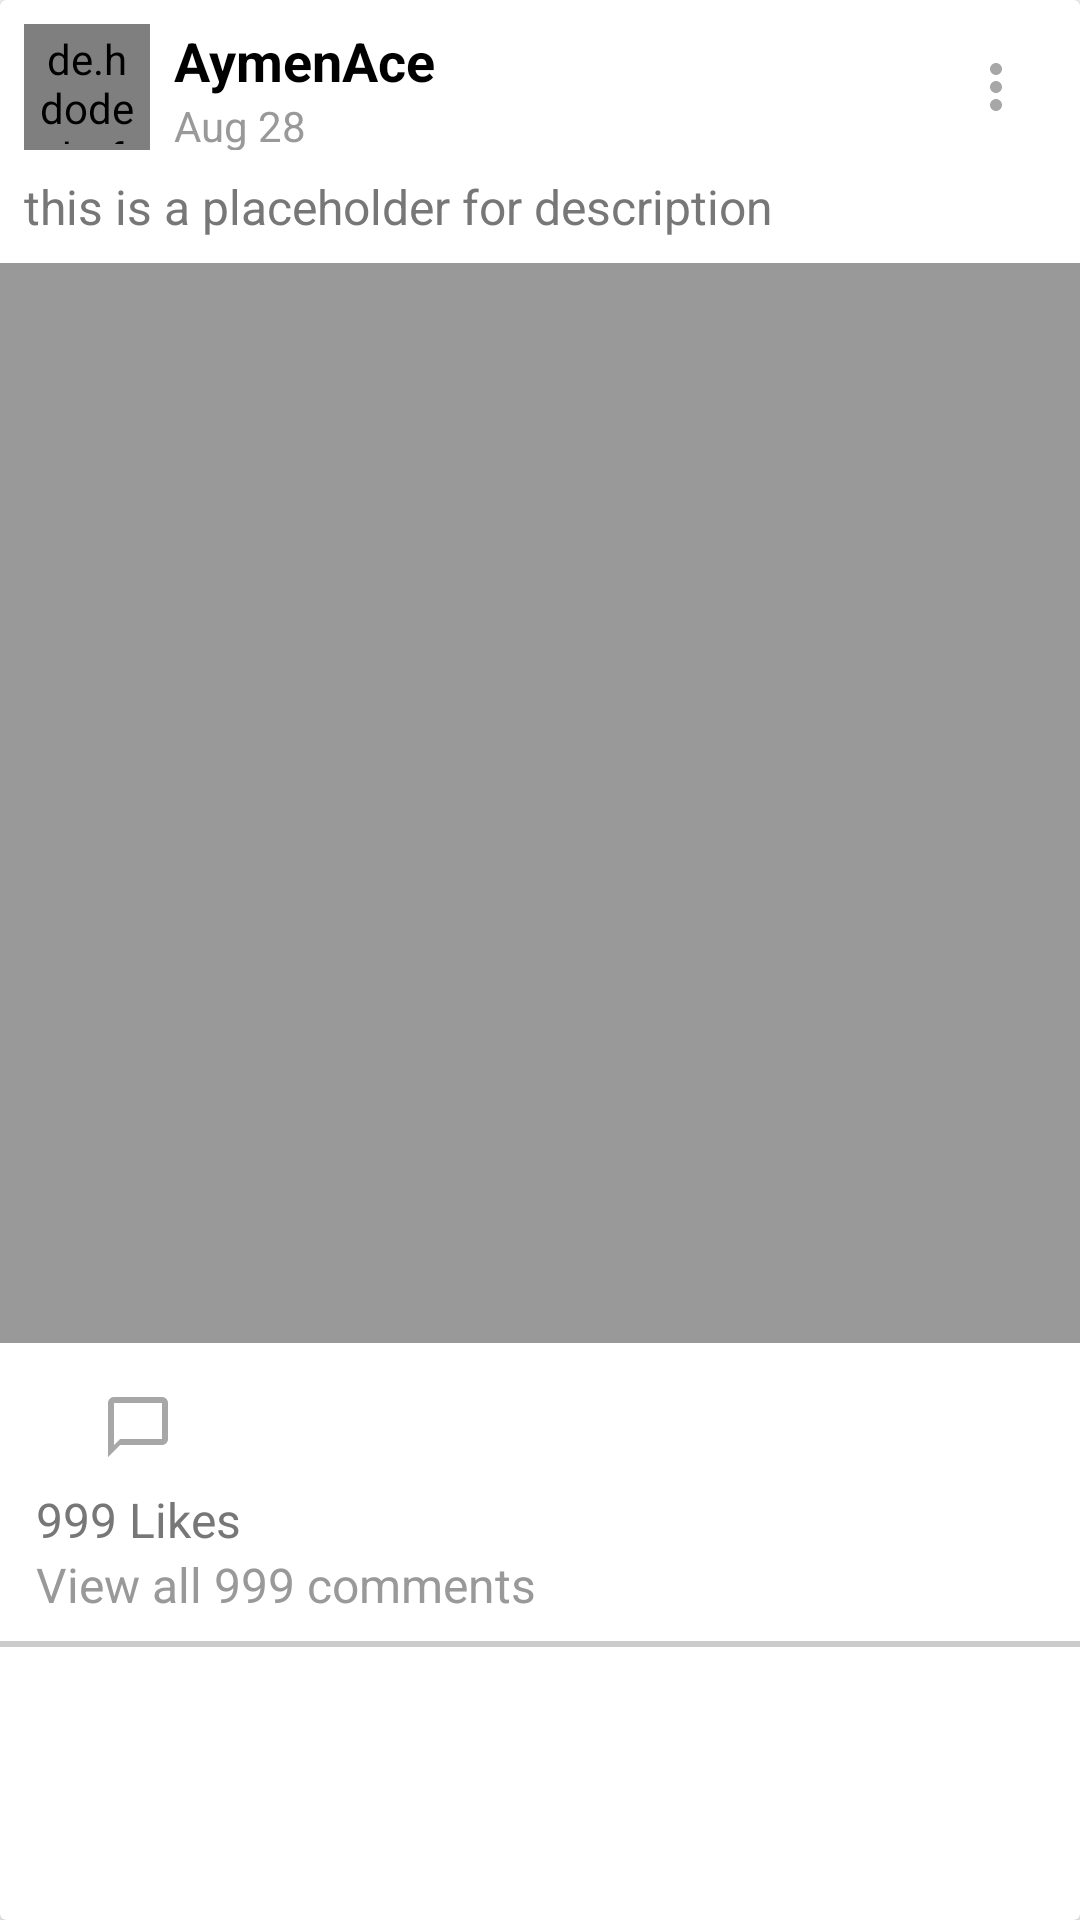

Where icons sit on this 1080*1920 app screen, as box=[x1, y1, x2, y2]:
more vert: box=[990, 63, 1002, 111]
